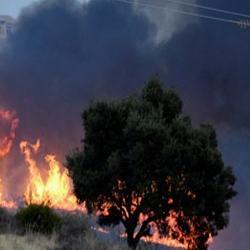fire: (24, 149, 69, 209)
